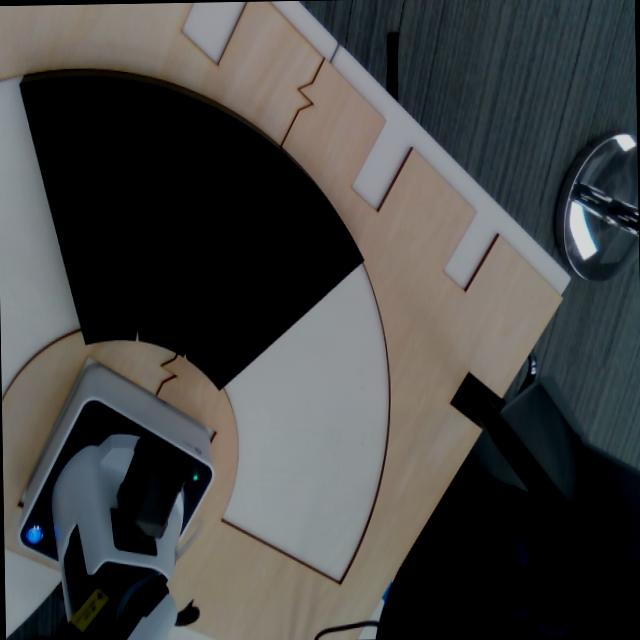box: (114, 133, 383, 394), (60, 87, 278, 351), (1, 75, 154, 356)
